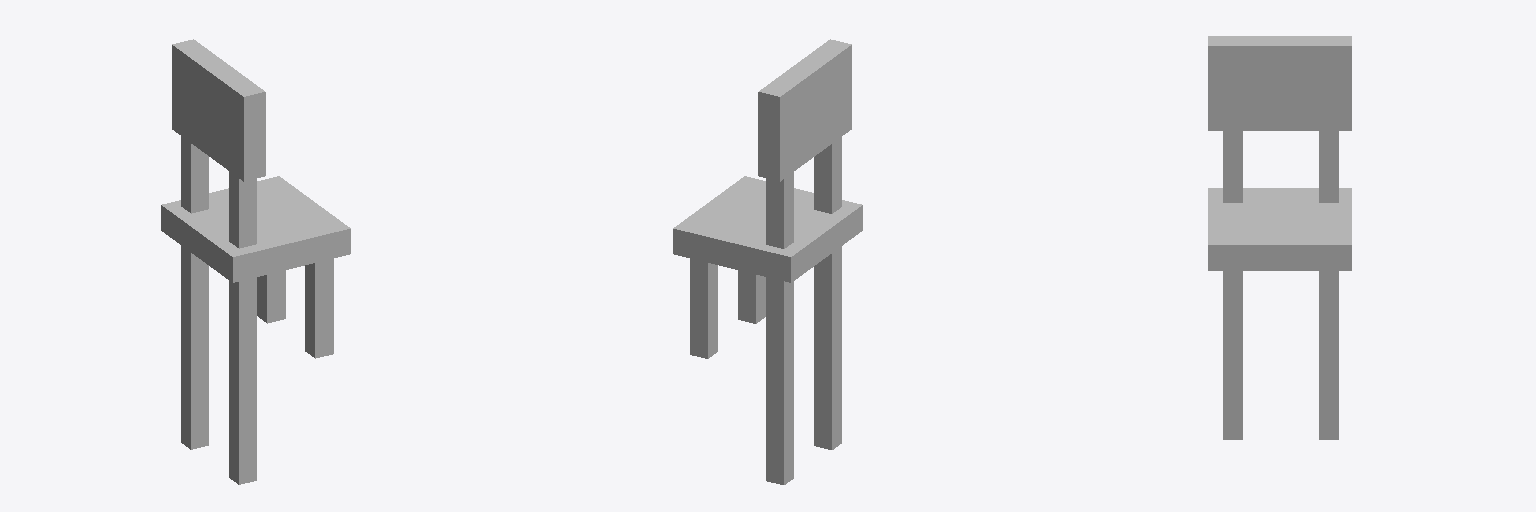
File: chair.obj
3 renders of one model, left to right at view 1: azimuth 30°, elevation 25°; view 2: azimuth 150°, elevation 25°; view 3: azimuth 270°, elevation 25°, orthographic.
Visible parts, largest first — view 1: polySurface38; view 2: polySurface38; view 3: polySurface38.
Boxes of the visible parts, x1,y1,x2,y2 form: polySurface38: [161, 39, 350, 484]; polySurface38: [673, 39, 862, 484]; polySurface38: [1208, 36, 1351, 439].
Size of the model in its own units: 2.26 by 7.2 by 2.38.